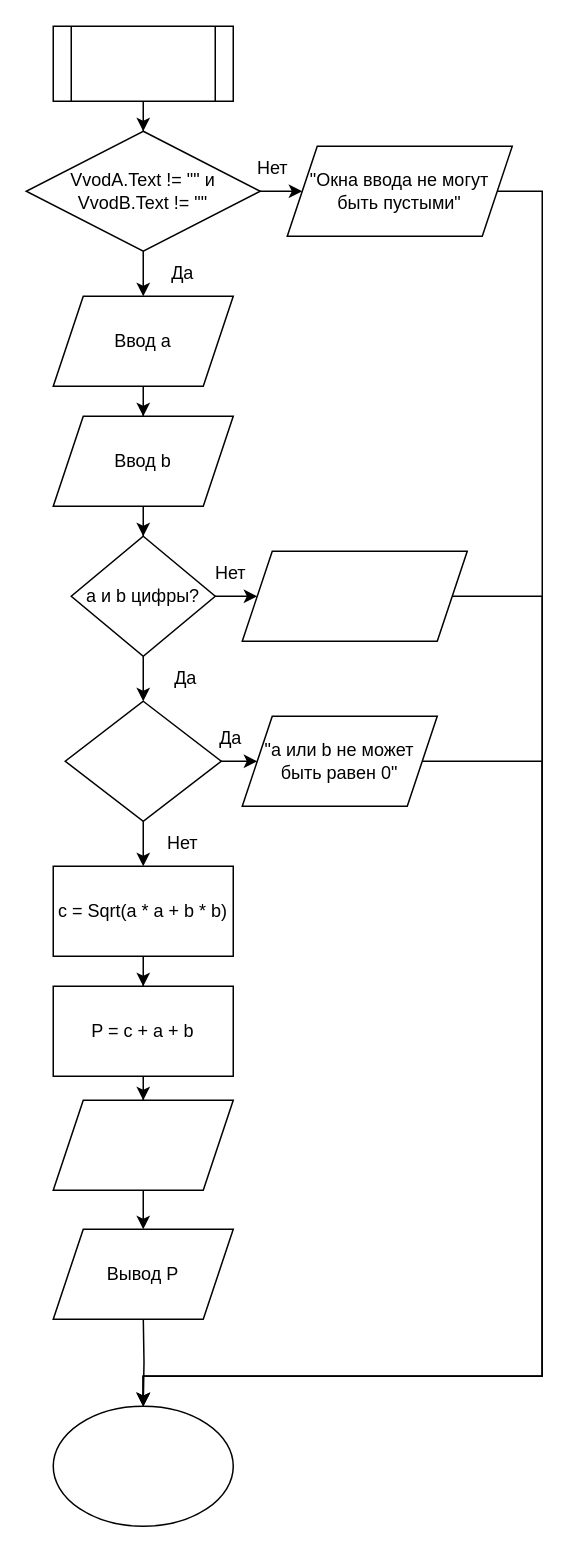
This 581x1553 diagram has some shape labels left out. The shapes that lost their labels are listed below. From the top down, each one's box as (x1, y1, x2, y2) in pixels, then its label:
(52, 25, 233, 101): RaschetClick
(241, 550, 467, 641): "a и b должны быть цифрой или числом"
(64, 700, 221, 821): a = 0 или b = 0
(52, 1099, 233, 1190): Вывод c
(52, 1405, 233, 1526): Конец RaschetClick
